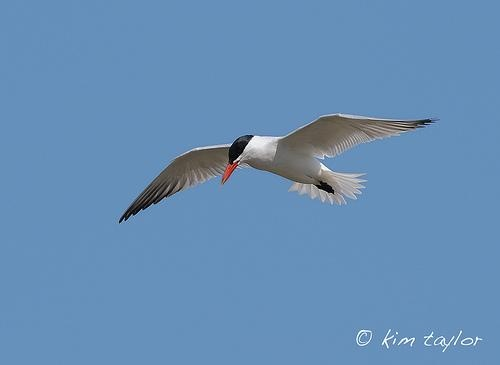bird: (111, 110, 443, 227)
